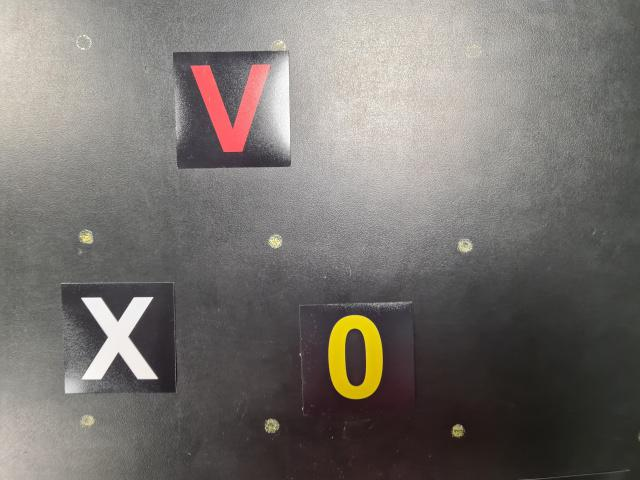0: (298, 302, 418, 414)
v: (173, 49, 291, 169)
x: (60, 281, 176, 396)
